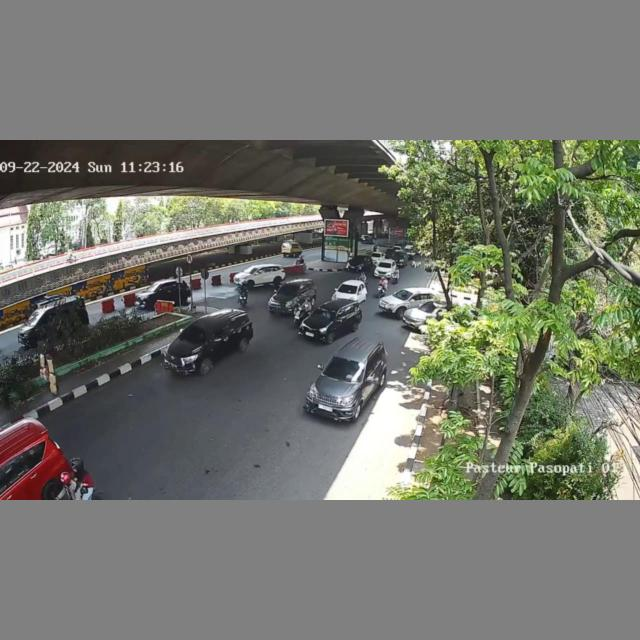windshield: (322, 354, 369, 385), (176, 325, 212, 344), (309, 306, 339, 324), (277, 284, 299, 296), (338, 283, 357, 293), (394, 290, 411, 300), (378, 261, 392, 268)
